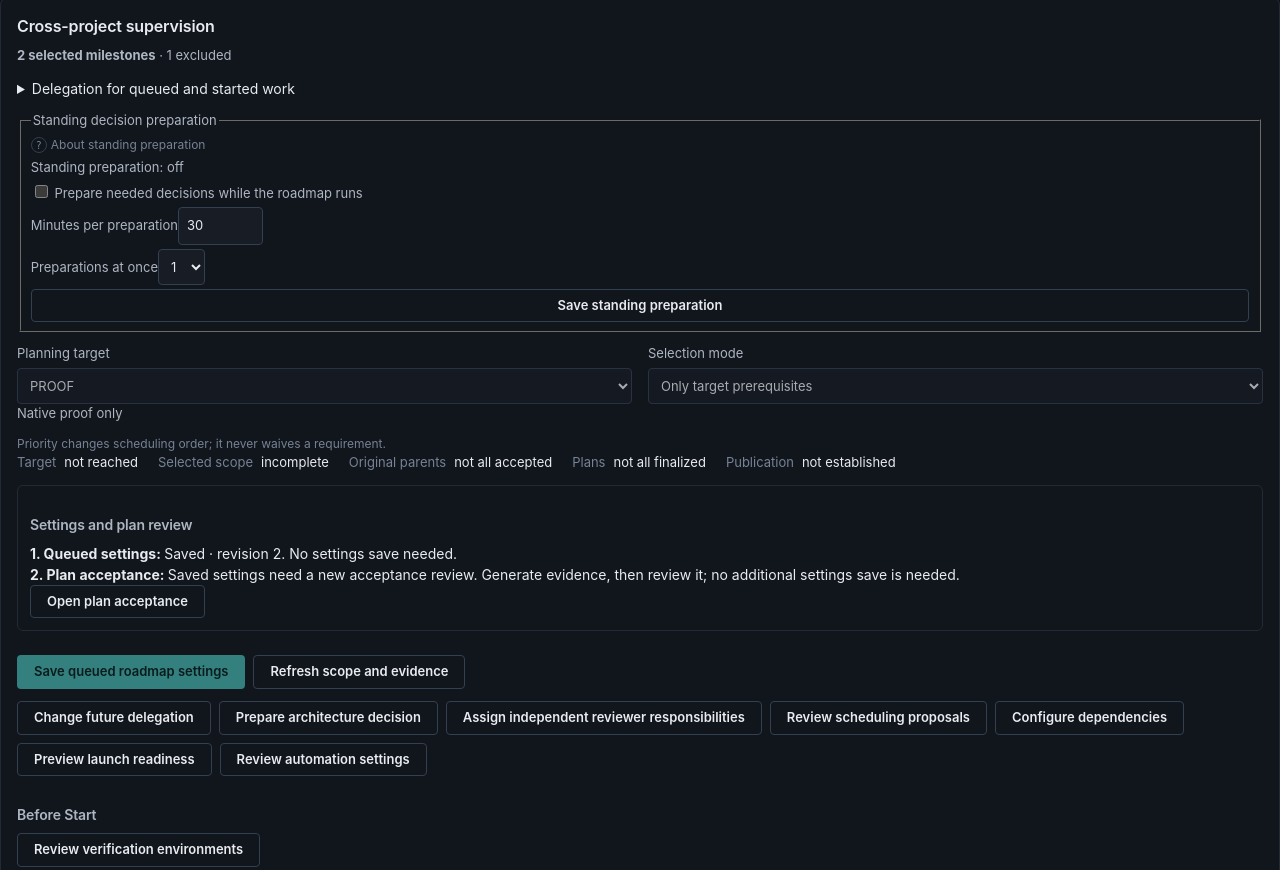
Test: promises no carried acceptance for unsaved settings when no plan is accepted
Expected: the text "Saved settings need a new acceptance review" is shown, [168,566,960,583]
What coordinates should you click on to do the following:
click the button "Assign independent reviewer responsibilities"
I would click on:
 (604, 718)
Its box is [446,701,762,735].
(page scrolled)
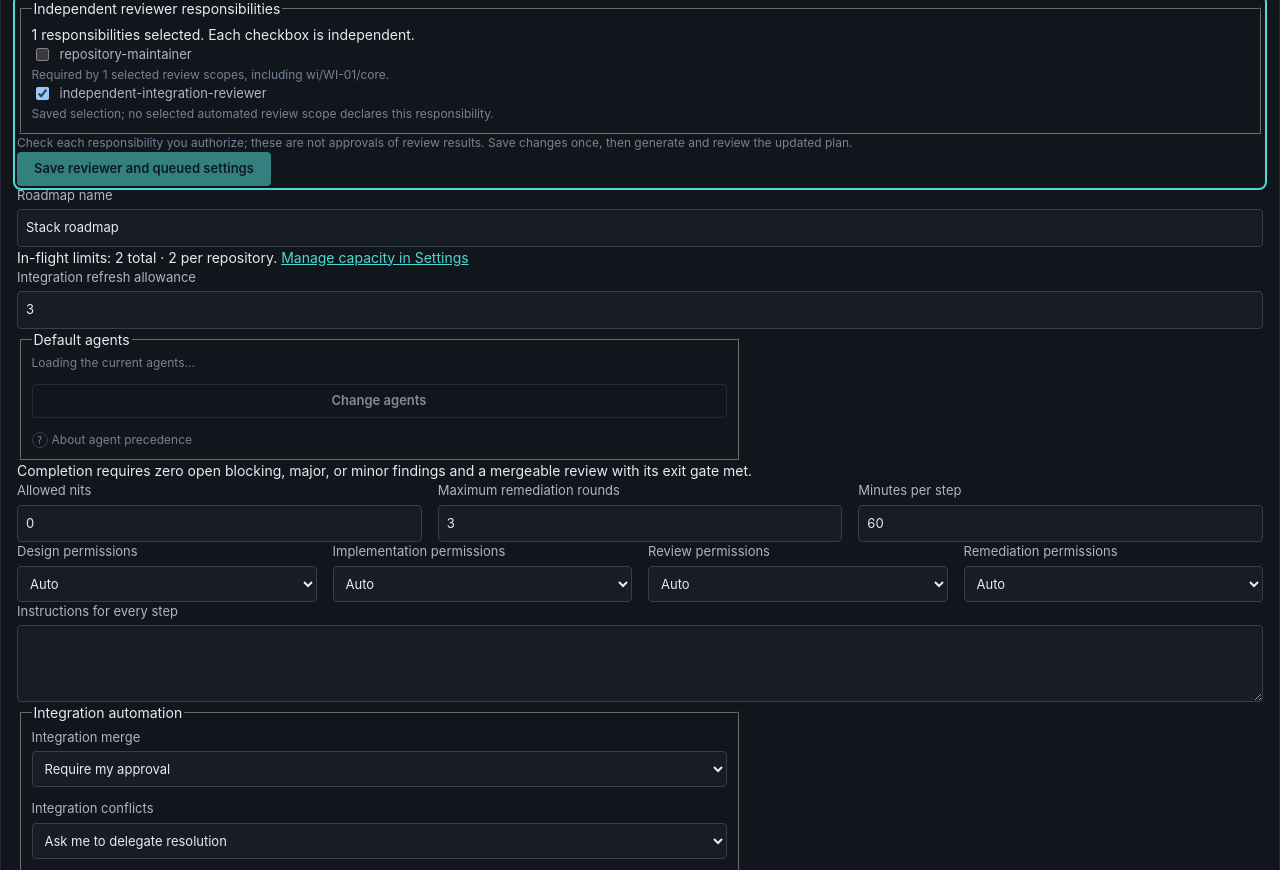
What coordinates should you click on to do the following:
click the checkbox labelled "repository-maintainer"
I would click on:
 (42, 54)
Its box is [36,48,48,61].
(page scrolled)
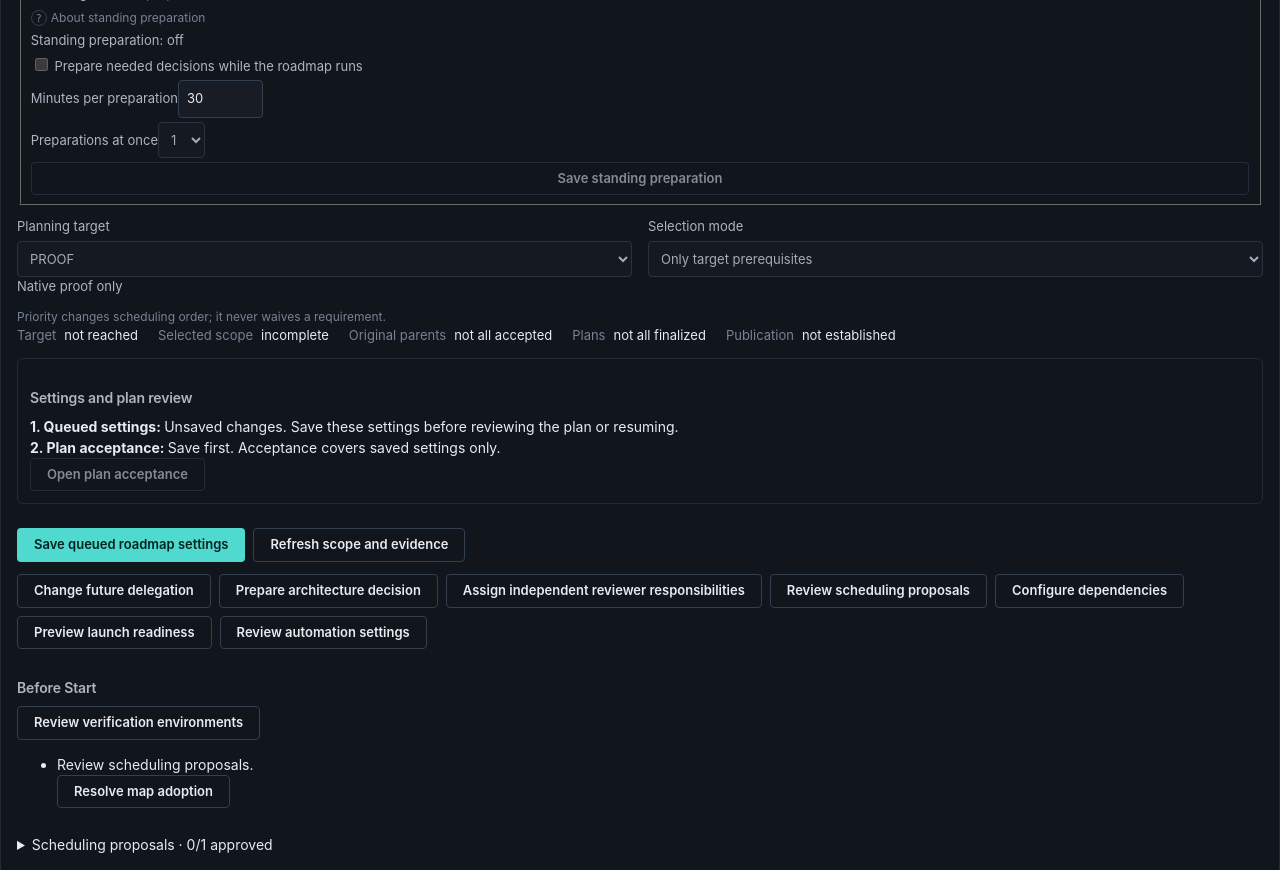
Expected: the text "Save first. Acceptance covers saved settings only." is shown, [168,439,501,456]
